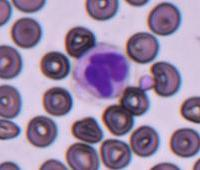N: (73, 44, 130, 98)
